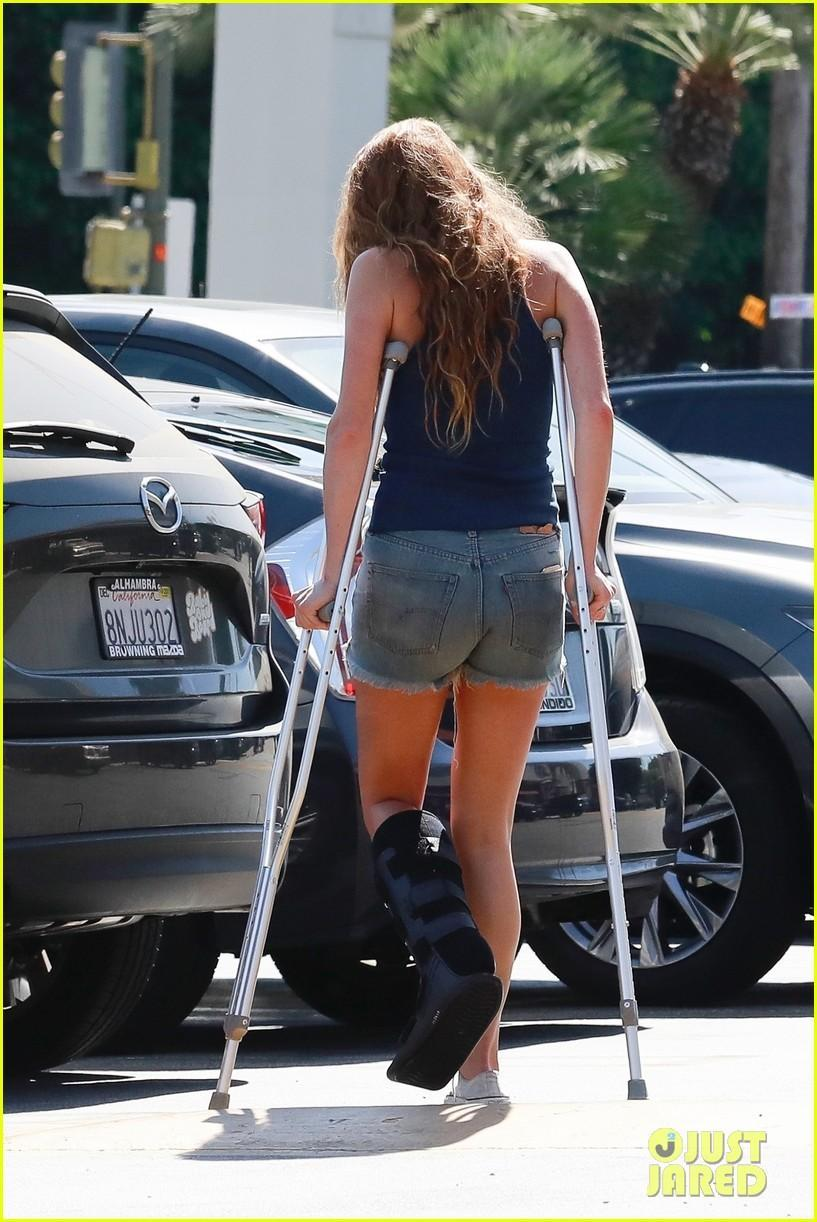crutches: (208, 117, 643, 1112)
